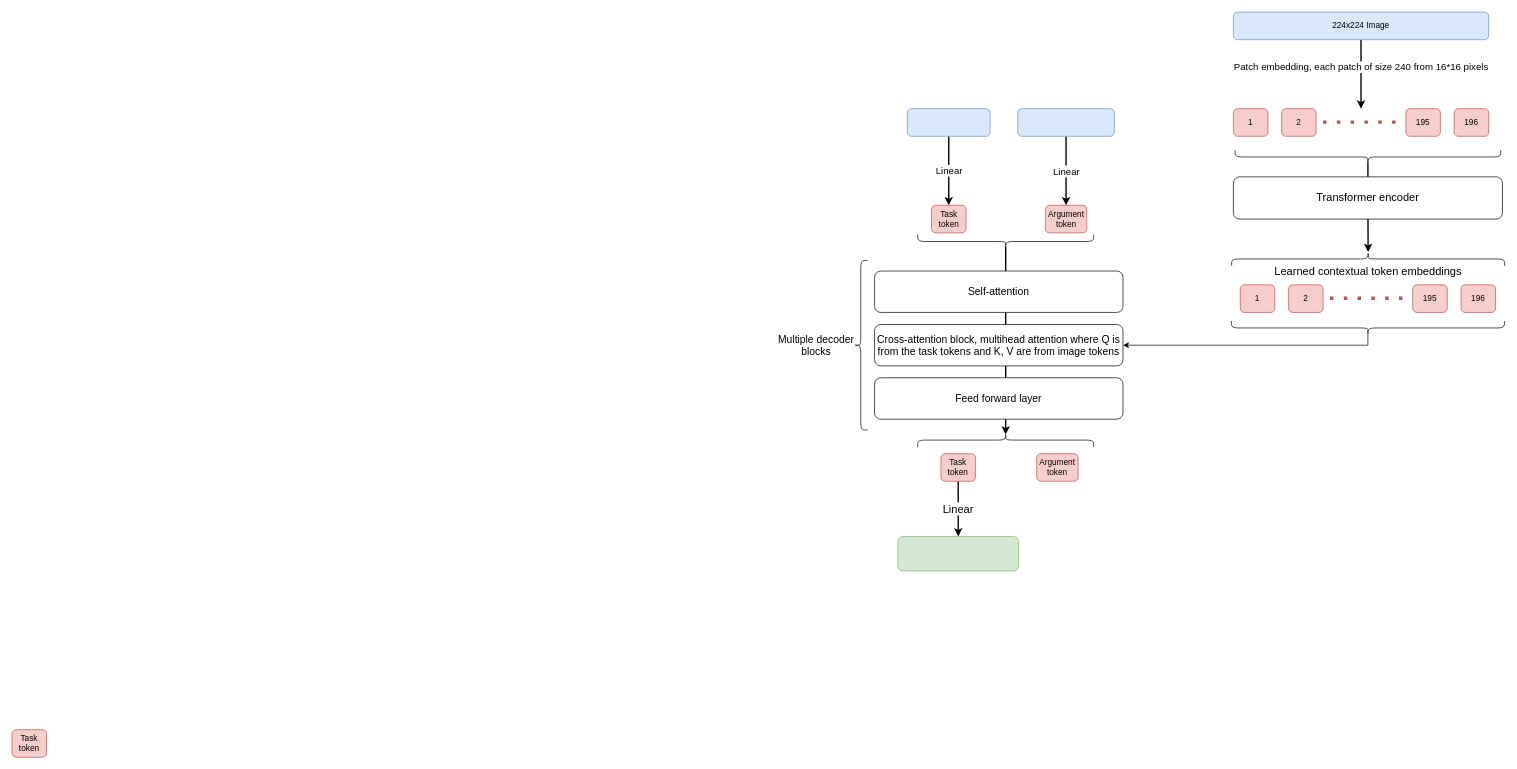
This 1517x769 diagram has some shape labels left out. Each missing label, with the box of its shape:
Answer logits (final prediction): (897, 536, 1019, 571)
One-hot task (left or right): (907, 108, 990, 136)
One-hot task argument (whose neigbour): (1017, 108, 1114, 136)
